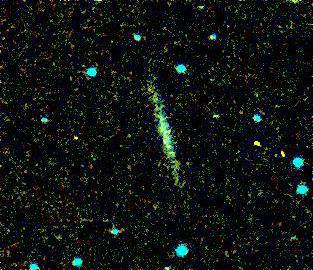star: (281, 0, 311, 16)
